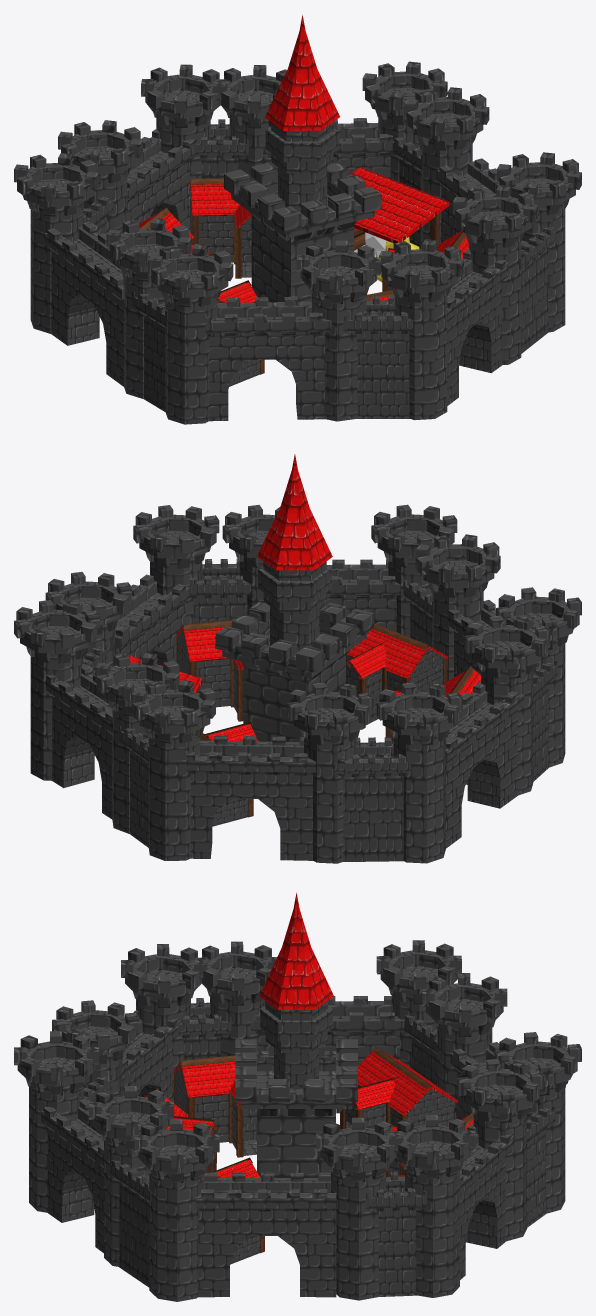
The model's file is CityEra3.fbx.
3 renders of one model, top to bottom at view 1: azimuth 30°, elevation 25°; view 2: azimuth 150°, elevation 25°; view 3: azimuth 270°, elevation 25°, orthographic.
Parts seen in each view (by area): view 1: Cube.201, Cube.009, Cylinder.015, Cylinder.008, Cube.007, Cylinder.014, Cylinder.017, Cylinder, Cube.004, Cube.010, Cylinder.010, Cylinder.009 (+18 smaller); view 2: Cube.005, Cube.201, Cylinder.017, Cylinder.012, Cube.007, Cylinder.018, Cube.008, Cylinder.011, Cylinder.016, Cube.001, Cylinder.014, Cylinder.009 (+21 smaller); view 3: Cube.002, Cube.201, Cylinder.009, Cylinder.011, Cylinder.010, Cylinder.013, Cylinder.008, Cube.010, Cylinder.018, Cylinder, Cylinder.012, Cylinder.015 (+21 smaller).
Boxes of the visible parts, x1,y1,x2,y2 form: Cube.201: (224, 162, 381, 302); Cube.009: (205, 296, 331, 421); Cylinder.015: (148, 243, 233, 424); Cylinder.008: (379, 239, 463, 420); Cube.007: (44, 221, 124, 386); Cylinder.014: (296, 240, 381, 421); Cylinder.017: (14, 153, 98, 333); Cylinder: (453, 185, 537, 364); Cube.004: (343, 295, 412, 418); Cube.010: (447, 249, 508, 405); Cylinder.010: (404, 87, 489, 248); Cylinder.009: (497, 152, 581, 332); Cube.005: (186, 735, 315, 860); Cube.201: (215, 601, 373, 741); Cylinder.017: (376, 682, 462, 863); Cylinder.012: (131, 680, 215, 860); Cube.007: (445, 681, 524, 848); Cylinder.018: (287, 682, 373, 863); Cube.008: (334, 737, 410, 861); Cylinder.011: (14, 600, 99, 780); Cylinder.016: (464, 615, 550, 795); Cube.001: (46, 664, 112, 819); Cylinder.014: (416, 534, 500, 681); Cylinder.009: (133, 505, 219, 624); Cube.002: (196, 1172, 336, 1297); Cube.201: (235, 1039, 357, 1177); Cylinder.009: (134, 1119, 219, 1301); Cylinder.011: (390, 1115, 475, 1297); Cylinder.010: (316, 1117, 401, 1300); Cylinder.013: (457, 1059, 544, 1241); Cylinder.008: (14, 1031, 99, 1212); Cube.010: (41, 1099, 103, 1252); Cylinder.018: (422, 973, 507, 1119); Cylinder: (89, 1086, 173, 1266); Cylinder.012: (494, 1032, 581, 1213); Cylinder.015: (121, 944, 206, 1101).
Bounding box in the file's own units: 1248 × 841 × 1390.
Materials: 5 (3 with a texture image).
